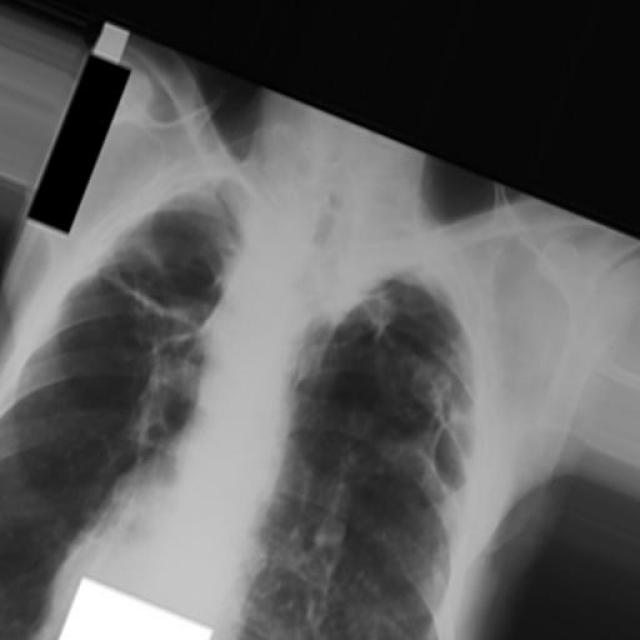tuberculosis: (1, 2, 640, 640)
